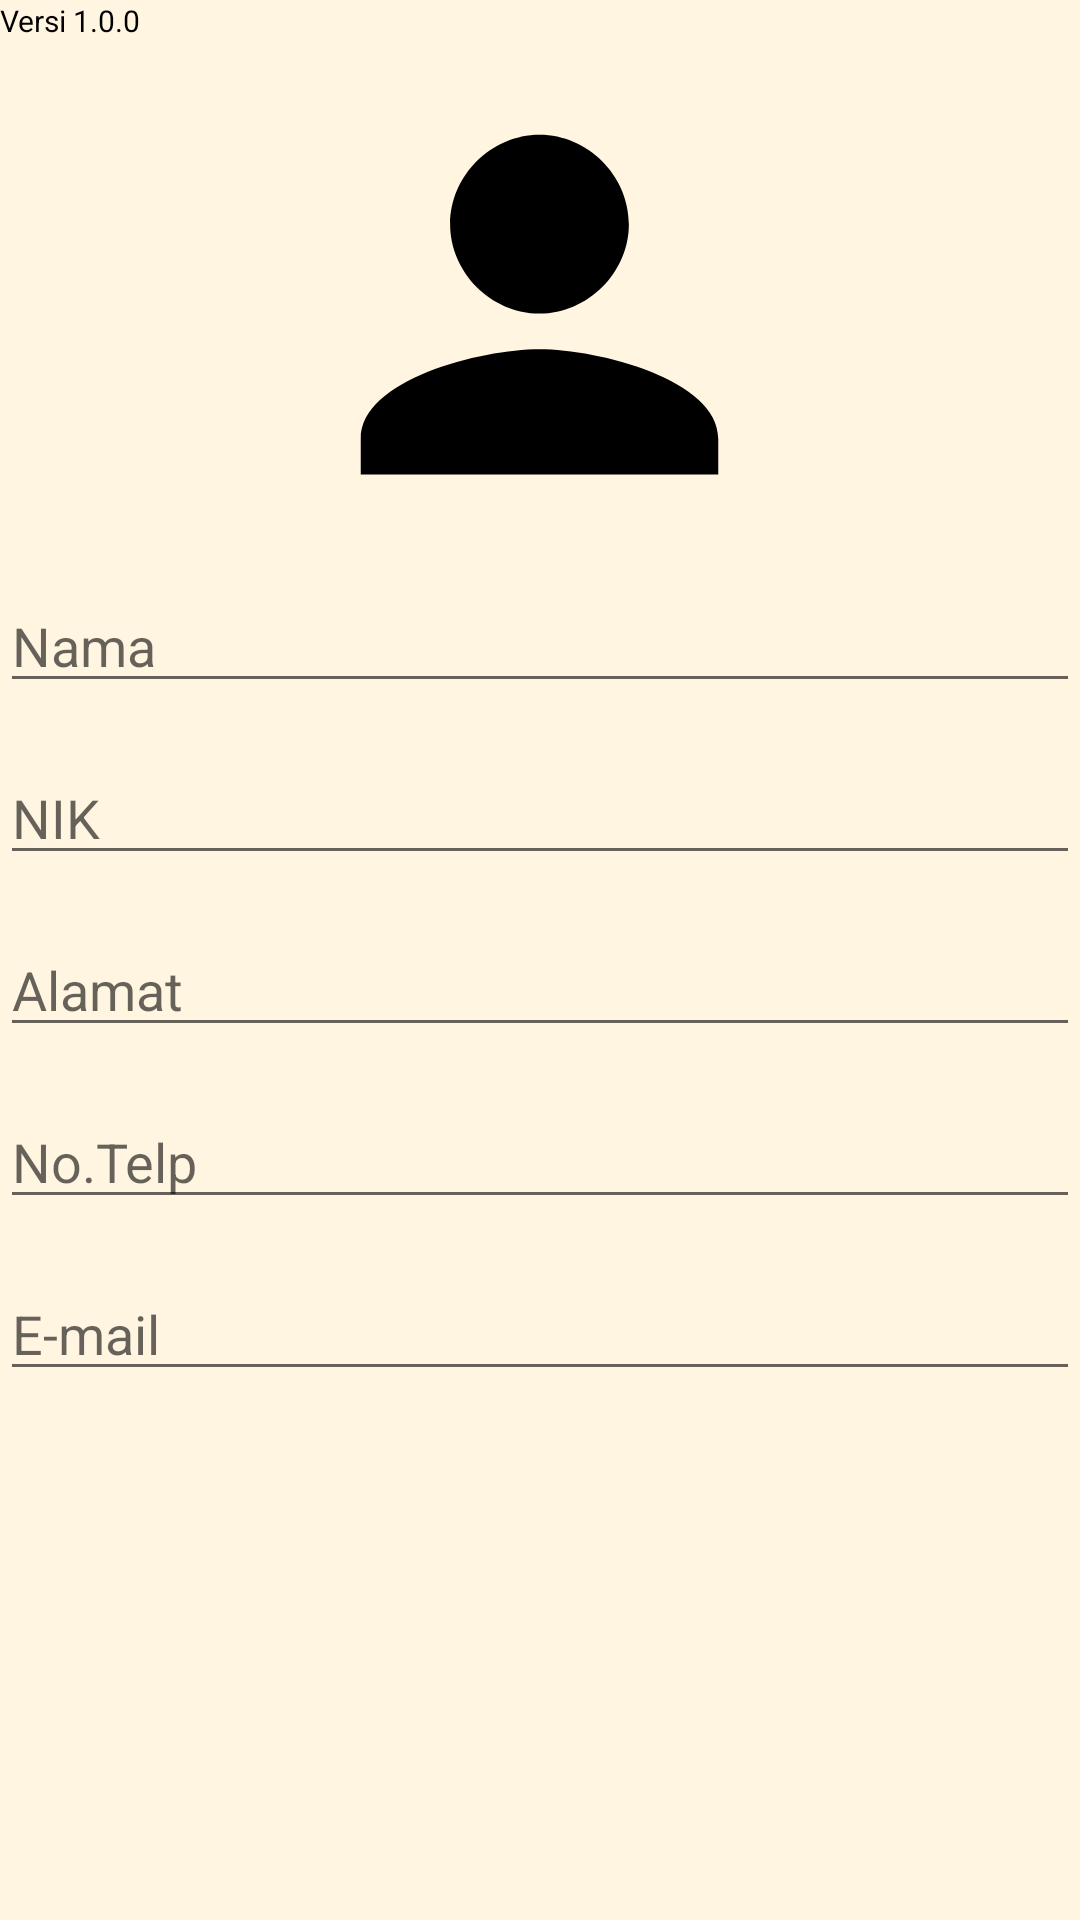

Named icons in this screenshot (1080 x 1920) and their bounding boxes, (x1, y1, x2, y2):
Foto Profil: (360, 134, 719, 475)
